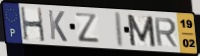H: (19, 6, 47, 44)
I: (115, 10, 125, 48)
K: (47, 9, 69, 43)
M: (125, 13, 158, 49)
R: (153, 17, 180, 49)
Z: (73, 12, 101, 44)
